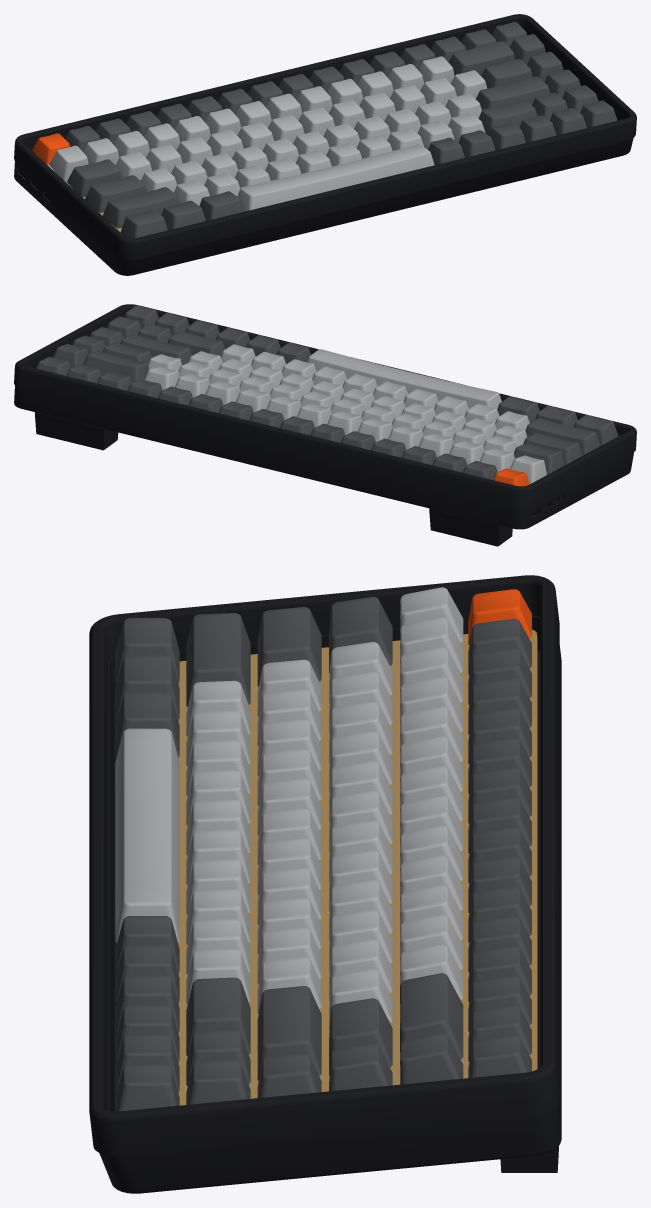
File: keyboard_75_v2.glb
3 views of the same model, one above another, from view 1: azimuth 30°, elevation 25°; view 2: azimuth 150°, elevation 25°; view 3: azimuth 270°, elevation 25° (orthographic). The views are drawn at different scales.
Visible parts, largest first — view 1: KB_Case_Top, KB_Case_Bottom, KB_Key_R5_03, KB_Key_R4_00, KB_Key_R3_12, KB_Key_R1_13, KB_Key_R3_00, KB_Key_R2_00, KB_Key_R4_11, KB_Key_R2_13, KB_Key_R5_00, KB_Key_R5_02 (+74 smaller); view 2: KB_Case_Top, KB_Case_Bottom, KB_Feet, KB_Key_R5_03, KB_Key_R4_00, KB_Key_R1_13, KB_Key_R3_12, KB_Key_R3_00, KB_Key_R4_11, KB_Key_R2_00, KB_Key_R5_00, KB_Key_R5_02 (+75 smaller); view 3: KB_Case_Top, KB_Case_Bottom, KB_Plate, KB_Key_R5_03, KB_Key_R4_00, KB_Key_R3_12, KB_Key_R1_13, KB_Key_R4_11, KB_Key_R3_00, KB_Key_R2_13, KB_Key_R2_00, KB_Key_R1_14 (+76 smaller).
Boxes of the visible parts, x1,y1,x2,y2 form: KB_Case_Top: (14, 14, 636, 260); KB_Case_Bottom: (14, 138, 633, 275); KB_Key_R5_03: (237, 144, 434, 211); KB_Key_R4_00: (102, 187, 179, 228); KB_Key_R3_12: (476, 76, 550, 109); KB_Key_R1_13: (448, 41, 515, 75); KB_Key_R3_00: (85, 175, 146, 212); KB_Key_R2_00: (67, 159, 121, 197); KB_Key_R4_11: (478, 100, 537, 135); KB_Key_R2_13: (481, 59, 532, 88); KB_Key_R5_00: (120, 210, 167, 238); KB_Key_R5_02: (199, 191, 243, 220); KB_Case_Top: (14, 304, 636, 508); KB_Case_Bottom: (14, 385, 633, 529); KB_Feet: (34, 412, 512, 546); KB_Key_R5_03: (307, 349, 501, 409); KB_Key_R4_00: (525, 418, 600, 455); KB_Key_R1_13: (83, 351, 149, 382); KB_Key_R3_12: (120, 334, 192, 365); KB_Key_R3_00: (523, 432, 582, 465); KB_Key_R4_11: (168, 331, 225, 356); KB_Key_R2_00: (514, 443, 564, 474); KB_Key_R5_00: (574, 415, 618, 445); KB_Key_R5_02: (497, 396, 539, 422); KB_Case_Top: (89, 575, 559, 1156); KB_Case_Bottom: (99, 616, 561, 1193); KB_Plate: (178, 629, 537, 1105); KB_Key_R5_03: (115, 728, 179, 942); KB_Key_R4_00: (186, 613, 250, 706); KB_Key_R3_12: (257, 986, 321, 1080); KB_Key_R1_13: (400, 973, 463, 1059); KB_Key_R4_11: (186, 977, 250, 1056); KB_Key_R3_00: (257, 607, 321, 686); KB_Key_R2_13: (329, 998, 392, 1075); KB_Key_R2_00: (329, 597, 392, 673); KB_Key_R1_14: (400, 1033, 463, 1084).
Size of the model in its own units: 31.3 by 3.74 by 12.39.
